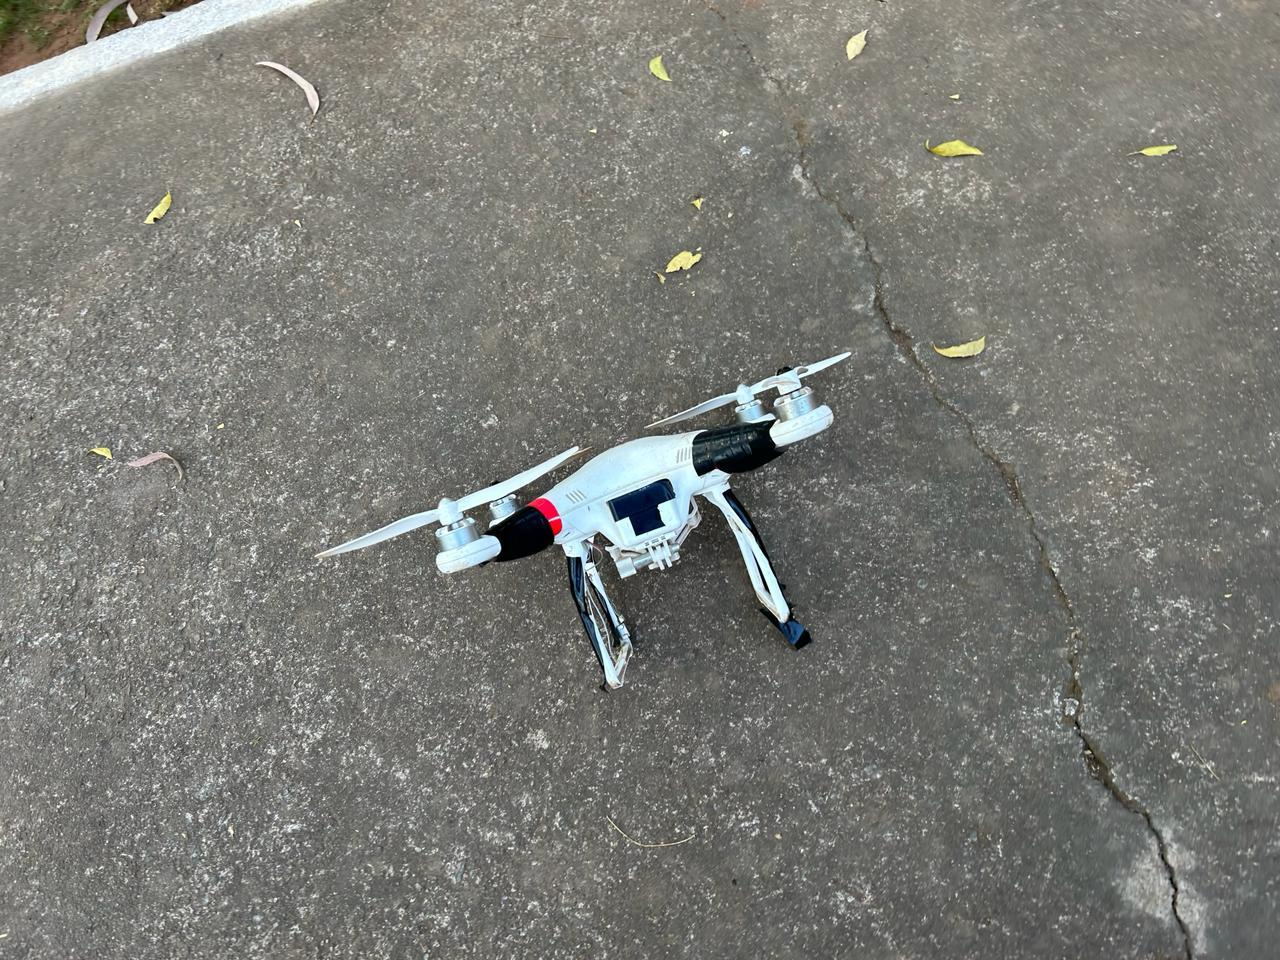drone: (252, 307, 965, 734)
